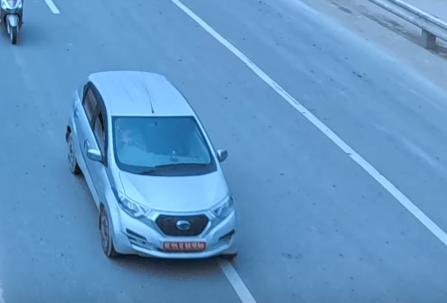car: (61, 68, 246, 264)
scooter: (0, 0, 24, 47)
